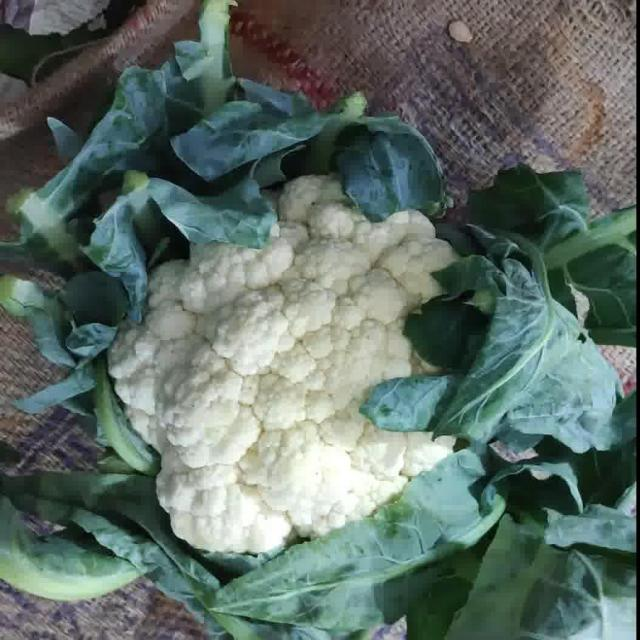Cauliflower: (111, 169, 472, 556)
